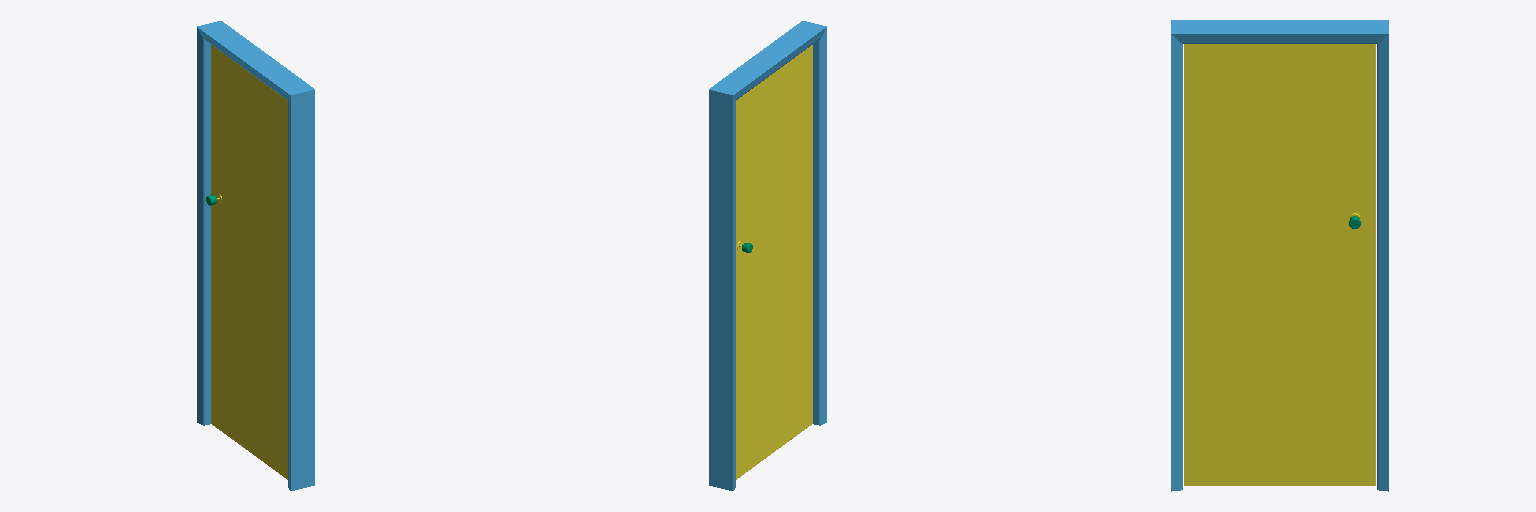
robot.urdf — partnet_bdf19a60512b5112aec118775e1a3eb4:
<robot name="partnet_bdf19a60512b5112aec118775e1a3eb4">
	<link name="base"><inertial><mass value="10" /><inertia ixx="1" ixy="0" ixz="0" iyy="1" iyz="0" izz="1" /></inertial></link>
	<link name="link_0">
		<visual name="outside_frame-12">
			<origin xyz="0 0 0" />
			<geometry>
				<mesh filename="textured_objs/original-29.obj" />
			</geometry>
		</visual>
		<collision>
			<origin xyz="0 0 0" />
			<geometry>
				<mesh filename="textured_objs/original-29.obj" />
			</geometry>
		</collision>
	<inertial><mass value="10" /><inertia ixx="1" ixy="0" ixz="0" iyy="1" iyz="0" izz="1" /></inertial></link>
	<joint name="joint_0" type="fixed">
		<origin rpy="1.570796326794897 0 -1.570796326794897" xyz="0 0 0" />
		<child link="link_0" />
		<parent link="base" />
	</joint>
	<link name="link_1">
		<visual name="movable_part-10">
			<origin xyz="0.2718480576000603 -0.14707143841511927 -0.07412800192832969" />
			<geometry>
				<mesh filename="textured_objs/original-24.obj" />
			</geometry>
		</visual>
		<visual name="movable_part-8">
			<origin xyz="0.2718480576000603 -0.14707143841511927 -0.07412800192832969" />
			<geometry>
				<mesh filename="textured_objs/original-27.obj" />
			</geometry>
		</visual>
		<collision>
			<origin xyz="0.2718480576000603 -0.14707143841511927 -0.07412800192832969" />
			<geometry>
				<mesh filename="textured_objs/original-24.obj" />
			</geometry>
		</collision>
		<collision>
			<origin xyz="0.2718480576000603 -0.14707143841511927 -0.07412800192832969" />
			<geometry>
				<mesh filename="textured_objs/original-27.obj" />
			</geometry>
		</collision>
	<inertial><mass value="10" /><inertia ixx="1" ixy="0" ixz="0" iyy="1" iyz="0" izz="1" /></inertial></link>
	<joint name="joint_1" type="revolute">
		<origin xyz="-0.6421963903449441 -0.7487525767254141 0.0723845451324776" />
		<axis xyz="0 0 1" />
		<child link="link_1" />
		<parent link="link_2" />
		<limit effort="30" lower="0.0" upper="1.5707963267948966" velocity="1.0" />
	</joint>
	<link name="link_2">
		<visual name="surface_board-11">
			<origin xyz="-0.37034833274488377 -0.8958240151405333 -0.0017434567958520795" />
			<geometry>
				<mesh filename="textured_objs/original-1.obj" />
			</geometry>
		</visual>
		<visual name="fixed_part-9">
			<origin xyz="-0.37034833274488377 -0.8958240151405333 -0.0017434567958520795" />
			<geometry>
				<mesh filename="textured_objs/original-23.obj" />
			</geometry>
		</visual>
		<visual name="fixed_part-7">
			<origin xyz="-0.37034833274488377 -0.8958240151405333 -0.0017434567958520795" />
			<geometry>
				<mesh filename="textured_objs/original-26.obj" />
			</geometry>
		</visual>
		<collision>
			<origin xyz="-0.37034833274488377 -0.8958240151405333 -0.0017434567958520795" />
			<geometry>
				<mesh filename="textured_objs/original-1.obj" />
			</geometry>
		</collision>
		<collision>
			<origin xyz="-0.37034833274488377 -0.8958240151405333 -0.0017434567958520795" />
			<geometry>
				<mesh filename="textured_objs/original-23.obj" />
			</geometry>
		</collision>
		<collision>
			<origin xyz="-0.37034833274488377 -0.8958240151405333 -0.0017434567958520795" />
			<geometry>
				<mesh filename="textured_objs/original-26.obj" />
			</geometry>
		</collision>
	<inertial><mass value="10" /><inertia ixx="1" ixy="0" ixz="0" iyy="1" iyz="0" izz="1" /></inertial></link>
	<joint name="joint_2" type="revolute">
		<origin xyz="0.37034833274488377 0.8958240151405333 0.0017434567958520795" />
		<axis xyz="0 0.9999999999999999 0" />
		<child link="link_2" />
		<parent link="link_0" />
		<limit effort="30" lower="0.0" upper="1.5707963267948966" velocity="1.0" />
	</joint>
</robot>

--- What the picture shows (computed from the rendered views, not written in the file) ---
Views: 3 orthographic renders of the robot side by side, from view 1: azimuth 30°, elevation 25°; view 2: azimuth 150°, elevation 25°; view 3: azimuth 270°, elevation 25°.
Model partnet_bdf19a60512b5112aec118775e1a3eb4 with 4 links and 3 joints (2 revolute, 1 fixed), rooted at base, posed every joint at zero.
Links seen in each view (by area): view 1: link_2, link_0; view 2: link_2, link_0; view 3: link_2, link_0.
Link boxes in pixels (<box>): link_2: <box>211,45,287,479</box>; link_0: <box>197,21,314,490</box>; link_2: <box>736,45,812,479</box>; link_0: <box>709,21,826,490</box>; link_2: <box>1184,44,1375,485</box>; link_0: <box>1171,20,1388,491</box>.
Bounding box of the posed robot: 0.1453 × 0.7833 × 1.82 m (x, y, z).
Meshes: 6 distinct files referenced, 6 mesh visuals loaded (6 OBJ).